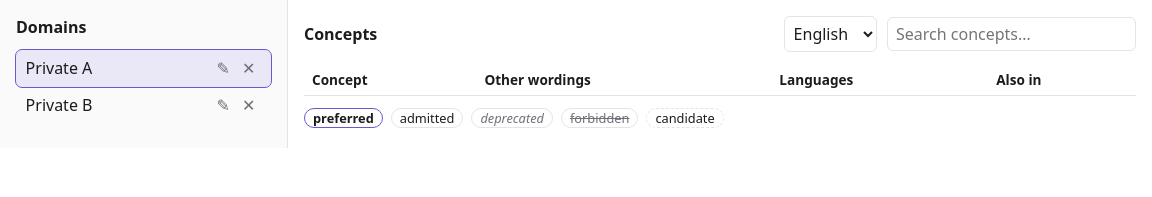
Test: TerminologyView concepts fetch: latest-request-wins on domain switch › discards an older fetch of the same domain that resolves after a newer one
The image size is (1152, 197).
What coordinates should you click on to do the following:
click the text "Private B"
I would click on:
 (59, 105)
Its box is [26, 94, 92, 116].
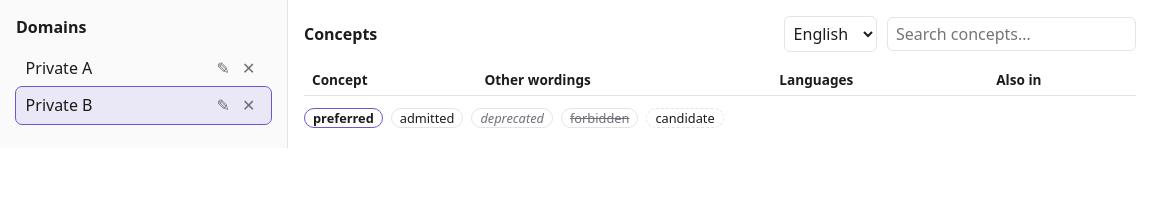
What coordinates should you click on to do the following:
click the text "Private A"
I would click on:
 (59, 68)
Its box is [26, 57, 92, 79].
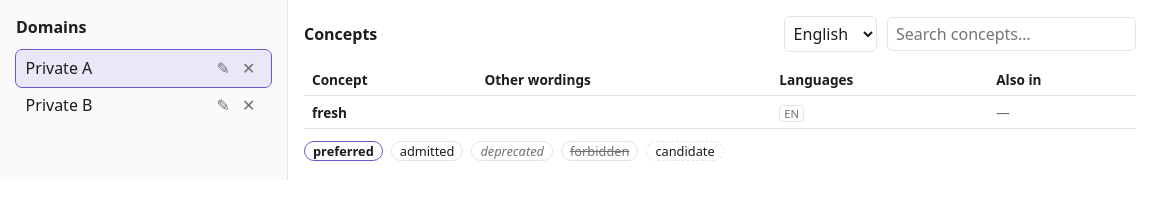
Now the button "fresh" is shown, box [312, 103, 347, 122]
